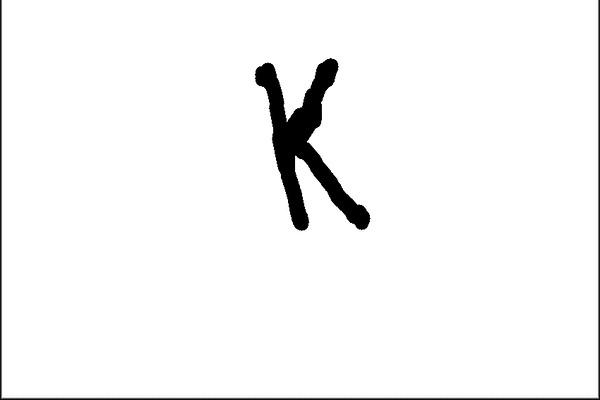K: (247, 50, 380, 240)
